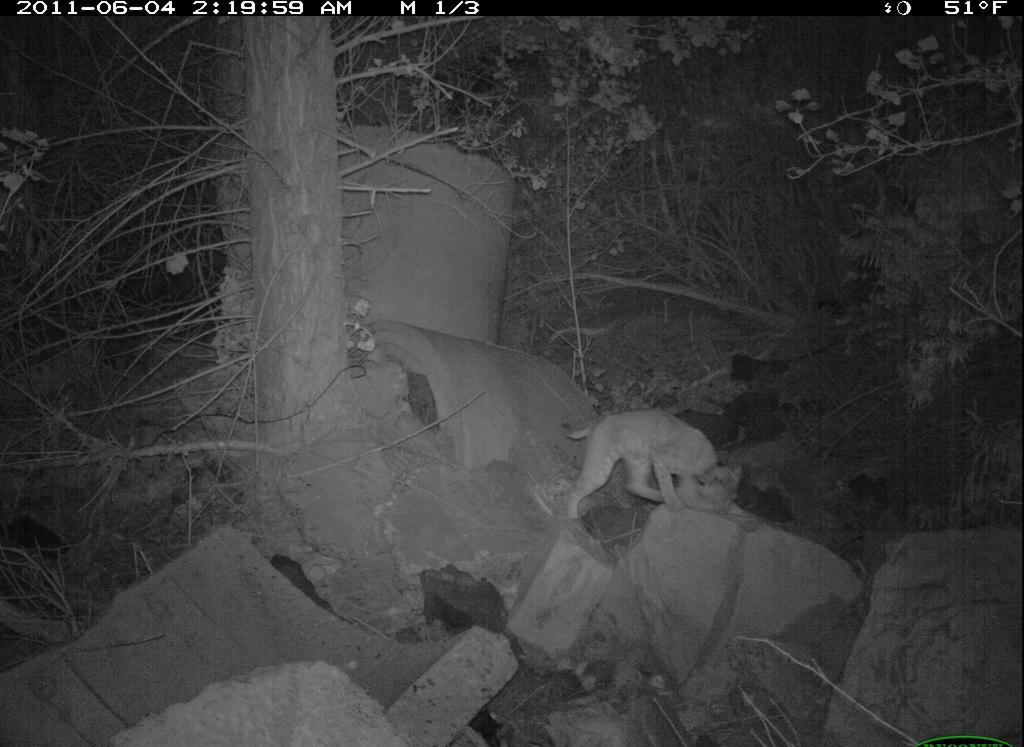bobcat: (557, 400, 752, 532)
